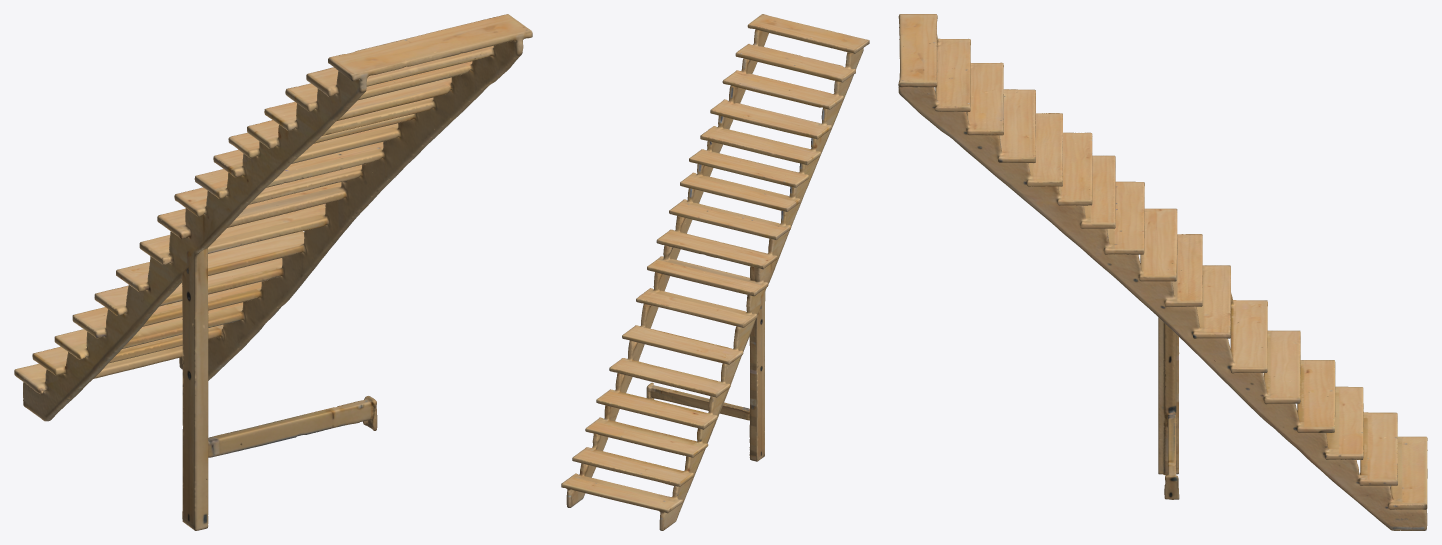
The model's file is escalera.glb.
The picture shows the model from 3 angles, left to right: view 1: azimuth 30°, elevation 25°; view 2: azimuth 150°, elevation 25°; view 3: azimuth 270°, elevation 25°; orthographic projection. The views are drawn at different scales.
Bounding box in the file's own units: 0.6726 × 1.9 × 2.01.
1 material, 1 textured.
